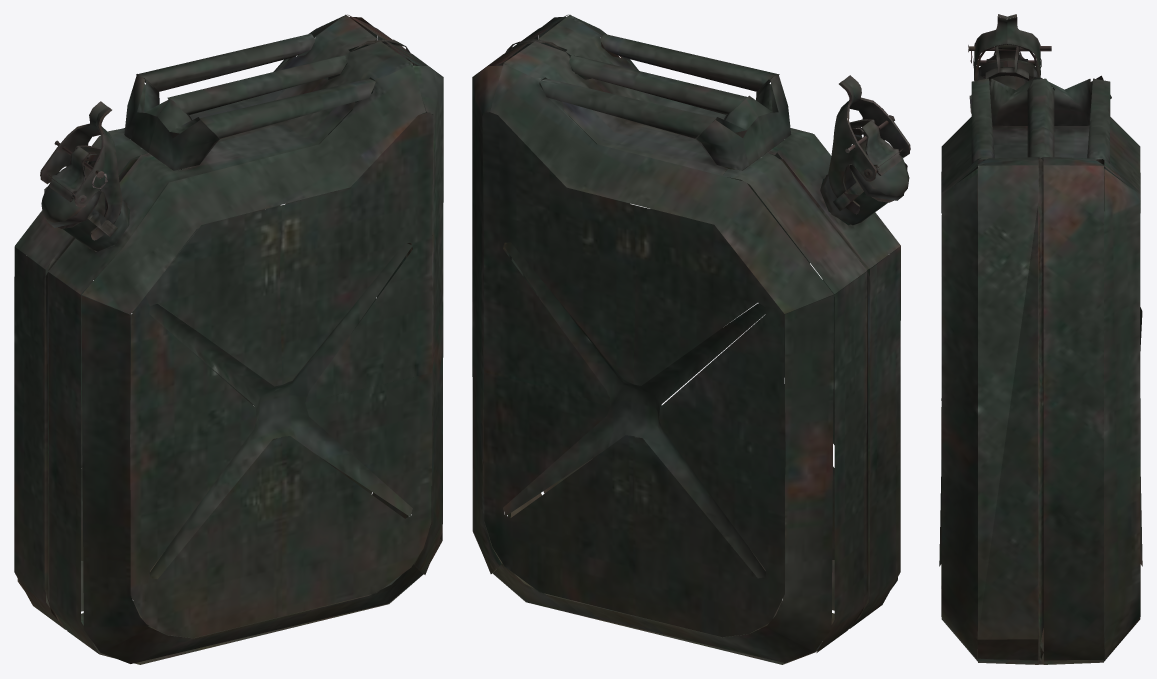
The model's file is metal_jerrycan_green_1k.gltf.
The picture shows the model from 3 angles, left to right: view 1: azimuth 30°, elevation 25°; view 2: azimuth 150°, elevation 25°; view 3: azimuth 270°, elevation 25°; orthographic projection. The views are drawn at different scales.
Parts seen in each view (by area): view 1: metal_jerrycan_green_body_LOD0, metal_jerrycan_green_latch_LOD0, metal_jerrycan_green_cap_LOD0; view 2: metal_jerrycan_green_body_LOD0, metal_jerrycan_green_latch_LOD0, metal_jerrycan_green_cap_LOD0; view 3: metal_jerrycan_green_body_LOD0, metal_jerrycan_green_latch_LOD0, metal_jerrycan_green_cap_LOD0, metal_jerrycan_green_fastener_LOD0.
Part boxes in pixels (left/top/right/bottom): metal_jerrycan_green_body_LOD0: left=14, top=14, right=443, bottom=664; metal_jerrycan_green_latch_LOD0: left=40, top=101, right=122, bottom=240; metal_jerrycan_green_cap_LOD0: left=41, top=146, right=101, bottom=228; metal_jerrycan_green_body_LOD0: left=472, top=14, right=900, bottom=664; metal_jerrycan_green_latch_LOD0: left=828, top=75, right=910, bottom=214; metal_jerrycan_green_cap_LOD0: left=849, top=120, right=909, bottom=202; metal_jerrycan_green_body_LOD0: left=939, top=75, right=1142, bottom=664; metal_jerrycan_green_latch_LOD0: left=973, top=14, right=1041, bottom=80; metal_jerrycan_green_cap_LOD0: left=977, top=44, right=1037, bottom=80; metal_jerrycan_green_fastener_LOD0: left=985, top=46, right=1029, bottom=80.
Size of what is drawn, in the model's own units: 0.3614 by 0.5 by 0.1751.
1 material, 1 textured.
